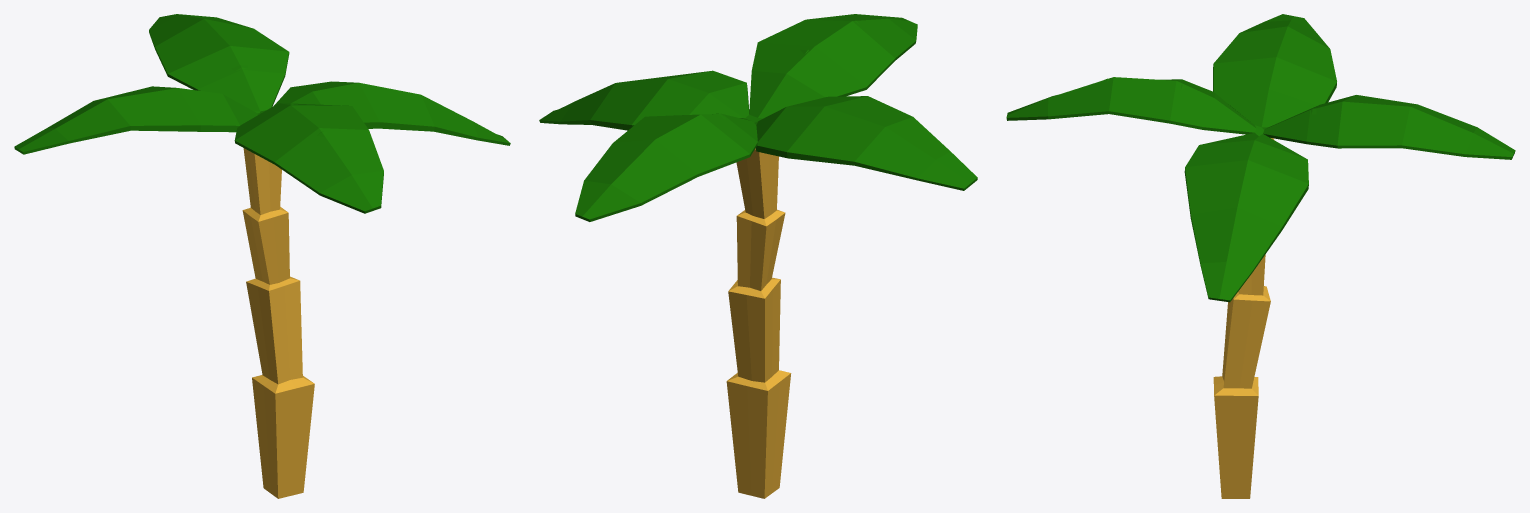
The model's file is palm2.glb.
3 renders of one model, left to right at view 1: azimuth 30°, elevation 25°; view 2: azimuth 150°, elevation 25°; view 3: azimuth 270°, elevation 25°, orthographic. The views are drawn at different scales.
Visible parts, largest first — view 1: Palm Tree; view 2: Palm Tree; view 3: Palm Tree.
Part boxes in pixels (x1,y1,x2,y2): Palm Tree: (14,14,510,498); Palm Tree: (539,14,977,498); Palm Tree: (1006,14,1515,498).
Bounding box in the file's own units: 6.38 × 5.6 × 6.41.
